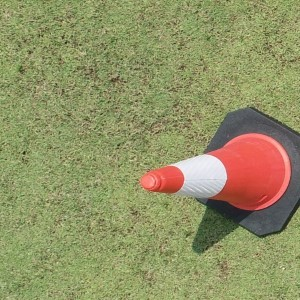traffic cone: (141, 107, 300, 238)
